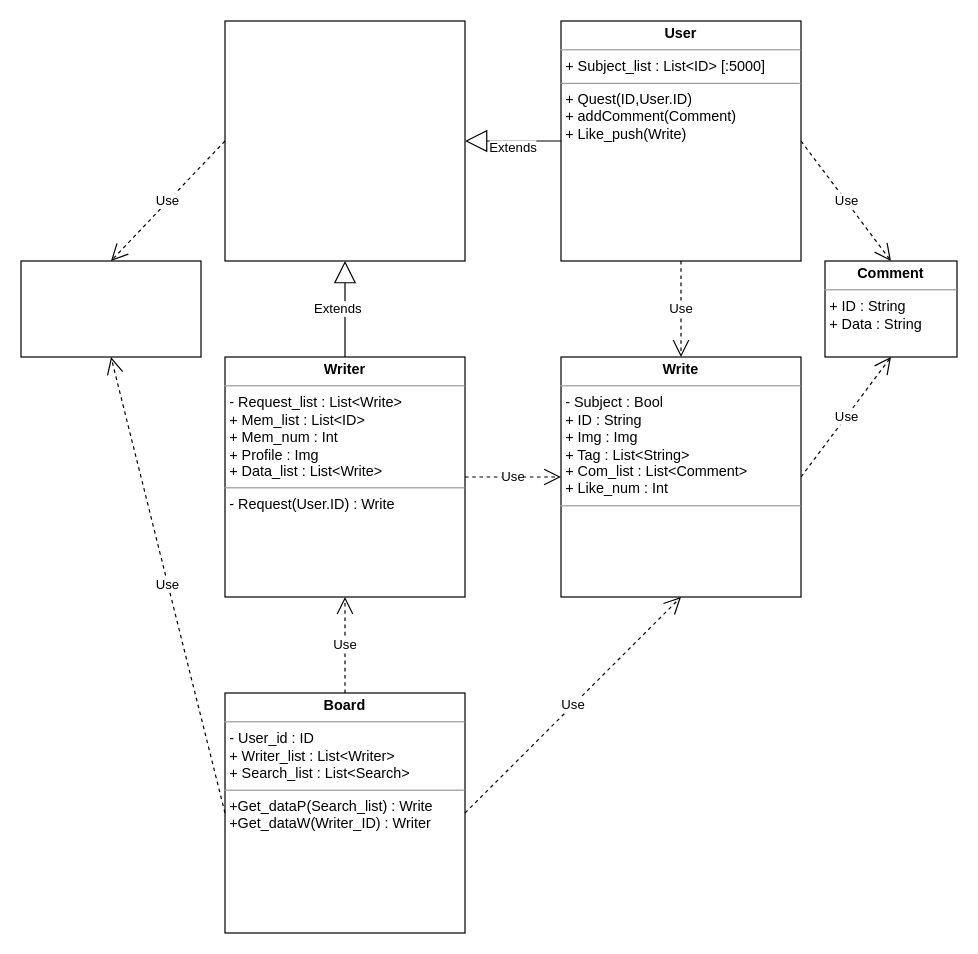
This 978x954 diagram has some shape labels left out. Each missing label, with the centre of its shape:
"Human + ID : String - PW : String - Card : String - Search_log : List<Search>" goes at pixel 344 140.
"Search + Prompt : String + Prompts : List<Prompt>" goes at pixel 110 308.
